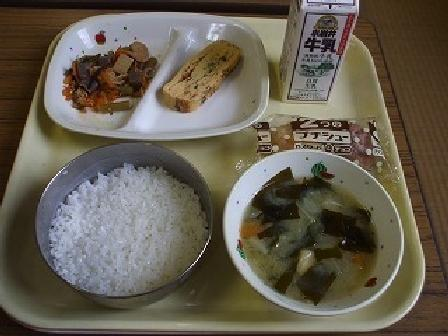Bread: (163, 32, 249, 121)
Milk: (260, 0, 362, 106)
Rice: (35, 138, 222, 307)
Soups: (225, 150, 408, 312)
cooked food meat with vegetables: (62, 32, 159, 120)
pastry: (236, 106, 401, 185)
